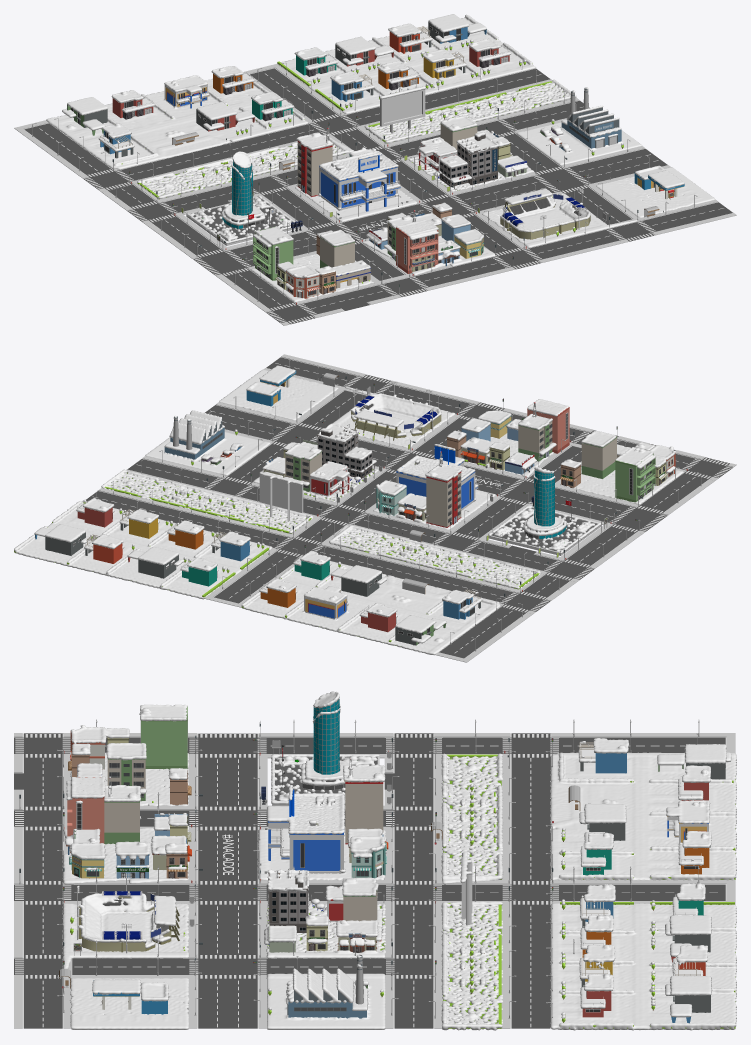
File: city-snow.glb
3 views of the same model, one above another, from view 1: azimuth 30°, elevation 25°; view 2: azimuth 150°, elevation 25°; view 3: azimuth 270°, elevation 25° (orthographic). The views are drawn at different scales.
Parts seen in each view (by area): view 1: Plaza01.003, SnowBall.007, SnowBall.005, SnowBall.006, SnowBall.003, SnowBall.002, SnowBall.004, SnowBall.001; view 2: Plaza01.003, SnowBall.007, SnowBall.005, SnowBall.006, SnowBall.002, SnowBall.004, SnowBall.003, SnowBall.001; view 3: Plaza01.003, SnowBall.007, SnowBall.005, SnowBall.006, SnowBall.003, SnowBall.004, SnowBall.002, SnowBall.001.
Part boxes in pixels (x1,y1,x2,y2): Plaza01.003: (14,22,736,325); SnowBall.007: (46,14,535,169); SnowBall.005: (251,165,715,302); SnowBall.006: (137,79,576,199); SnowBall.003: (295,128,417,222); SnowBall.002: (516,87,641,165); SnowBall.004: (408,115,534,191); SnowBall.001: (186,151,298,243); Plaza01.003: (14,354,736,662); SnowBall.007: (14,498,500,655); SnowBall.005: (219,365,683,504); SnowBall.006: (101,469,540,588); SnowBall.002: (145,410,270,475); SnowBall.004: (253,423,378,501); SnowBall.003: (373,444,495,529); SnowBall.001: (488,467,600,553); Plaza01.003: (14,699,735,1028); SnowBall.007: (550,738,736,1030); SnowBall.005: (62,704,189,1029); SnowBall.006: (441,753,503,1030); SnowBall.003: (257,758,386,880); SnowBall.004: (264,869,386,958); SnowBall.002: (266,955,385,1029); SnowBall.001: (271,691,379,804).
Bounding box in the file's own units: 13.22 × 2.01 × 13.65.
72 materials, 63 textured.
